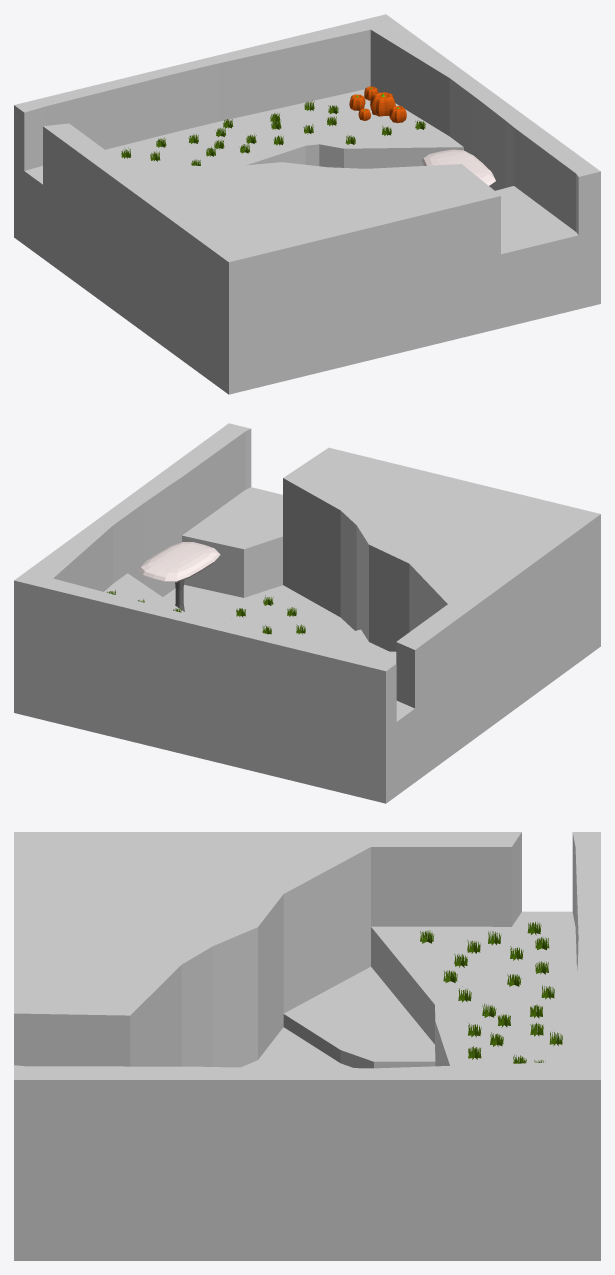
The model's file is stage_1_5_filled.glb.
3 renders of one model, top to bottom at view 1: azimuth 30°, elevation 25°; view 2: azimuth 150°, elevation 25°; view 3: azimuth 270°, elevation 25°, orthographic. The views are drawn at different scales.
Parts seen in each view (by area): view 1: scene, ground, Mushroom1, pumpkin.001; view 2: scene, ground, Mushroom1; view 3: scene, ground.
Part boxes in pixels (<box>): scene: <box>14,14,600,394</box>; ground: <box>25,89,578,254</box>; Mushroom1: <box>421,149,495,185</box>; pumpkin.001: <box>370,92,395,116</box>; scene: <box>14,423,600,803</box>; ground: <box>104,487,414,721</box>; Mushroom1: <box>139,542,220,611</box>; scene: <box>14,832,600,1260</box>; ground: <box>241,911,576,1067</box>.
Size of the model in its own units: 80 by 27.2 by 80.
